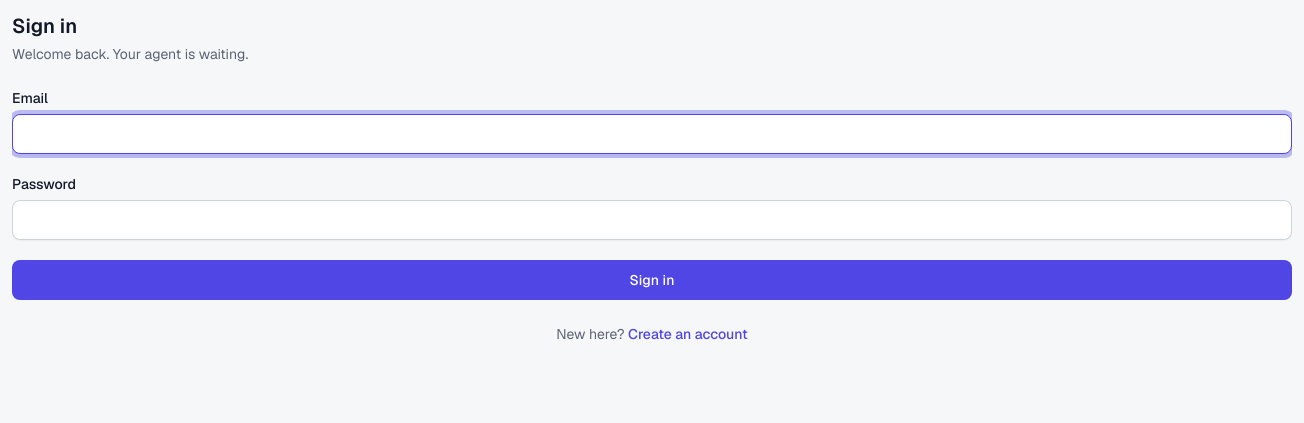
it: LoginForm › explains rate limiting
Type "ada@example.com" into the field labelled "Email" at (652, 134), box [12,114,1292,154]
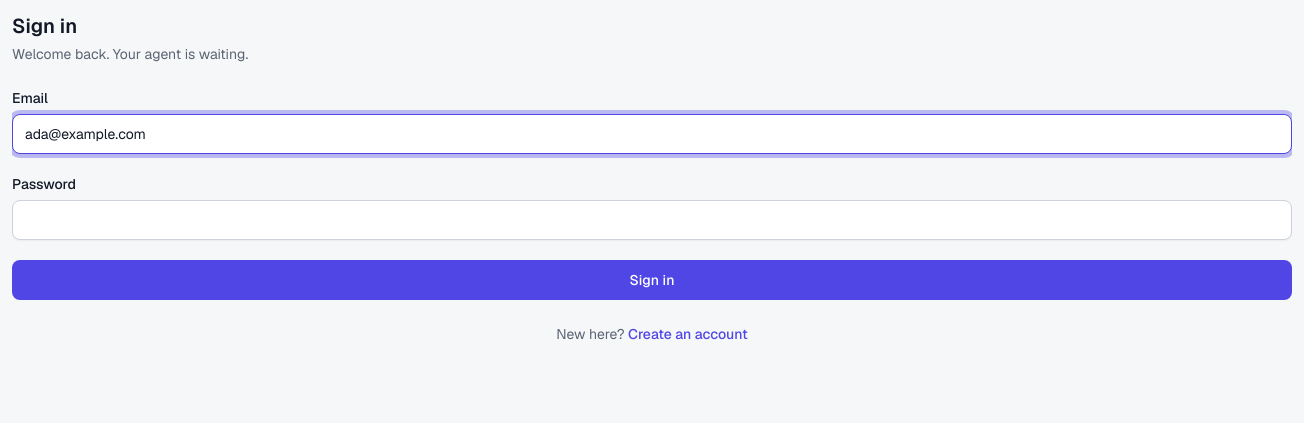
Type "whatever-123" into the password field labelled "Password" at (652, 220), box [12,200,1292,240]
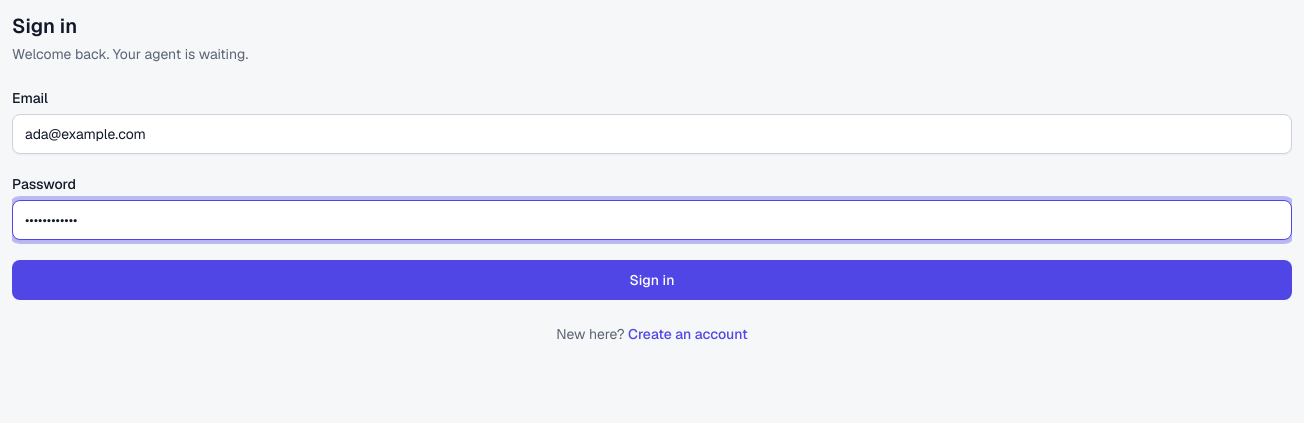
Click the button "Sign in" at (652, 280), box [12,260,1292,300]
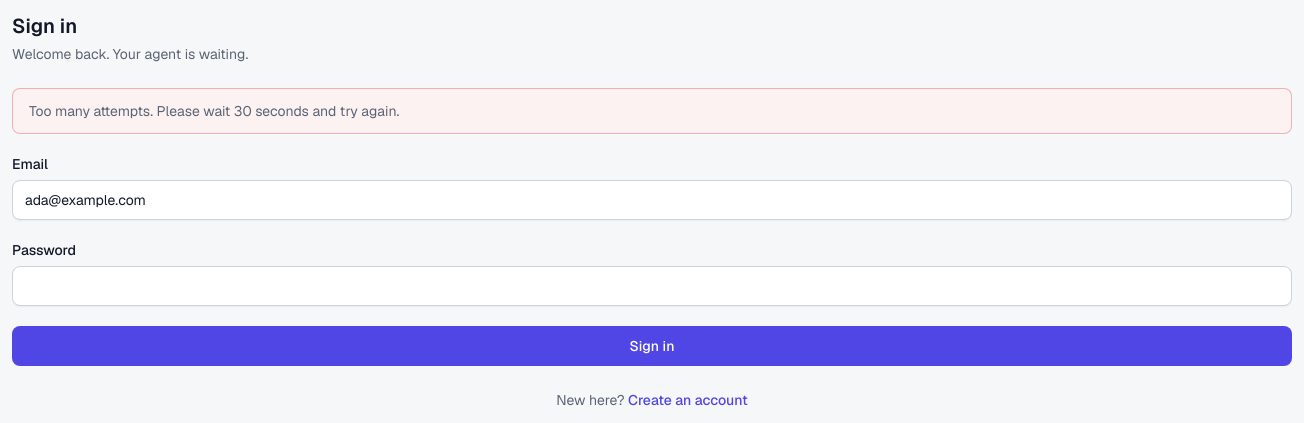
Check: the text "Too many attempts. Please wait 30 seconds and try again." is shown, box [29,102,399,120]
